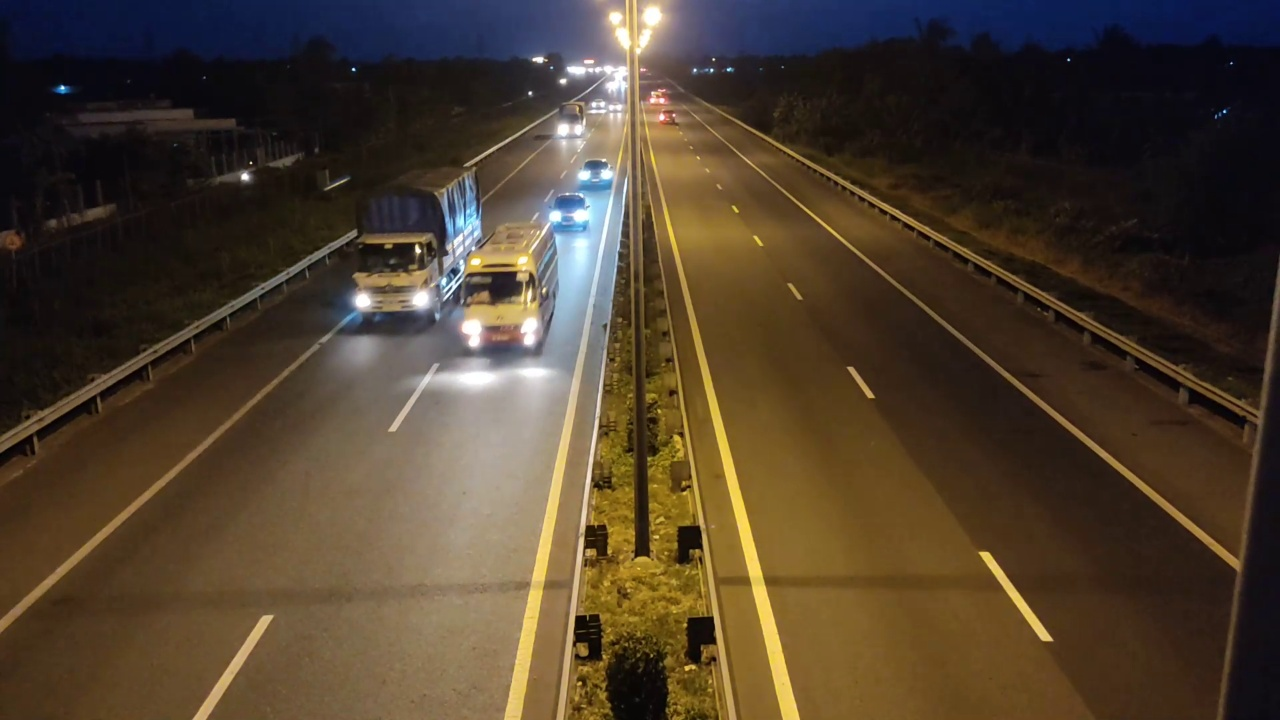bus: (456, 222, 557, 354)
car: (543, 191, 591, 231), (575, 158, 615, 190)
truck: (349, 164, 484, 328)
